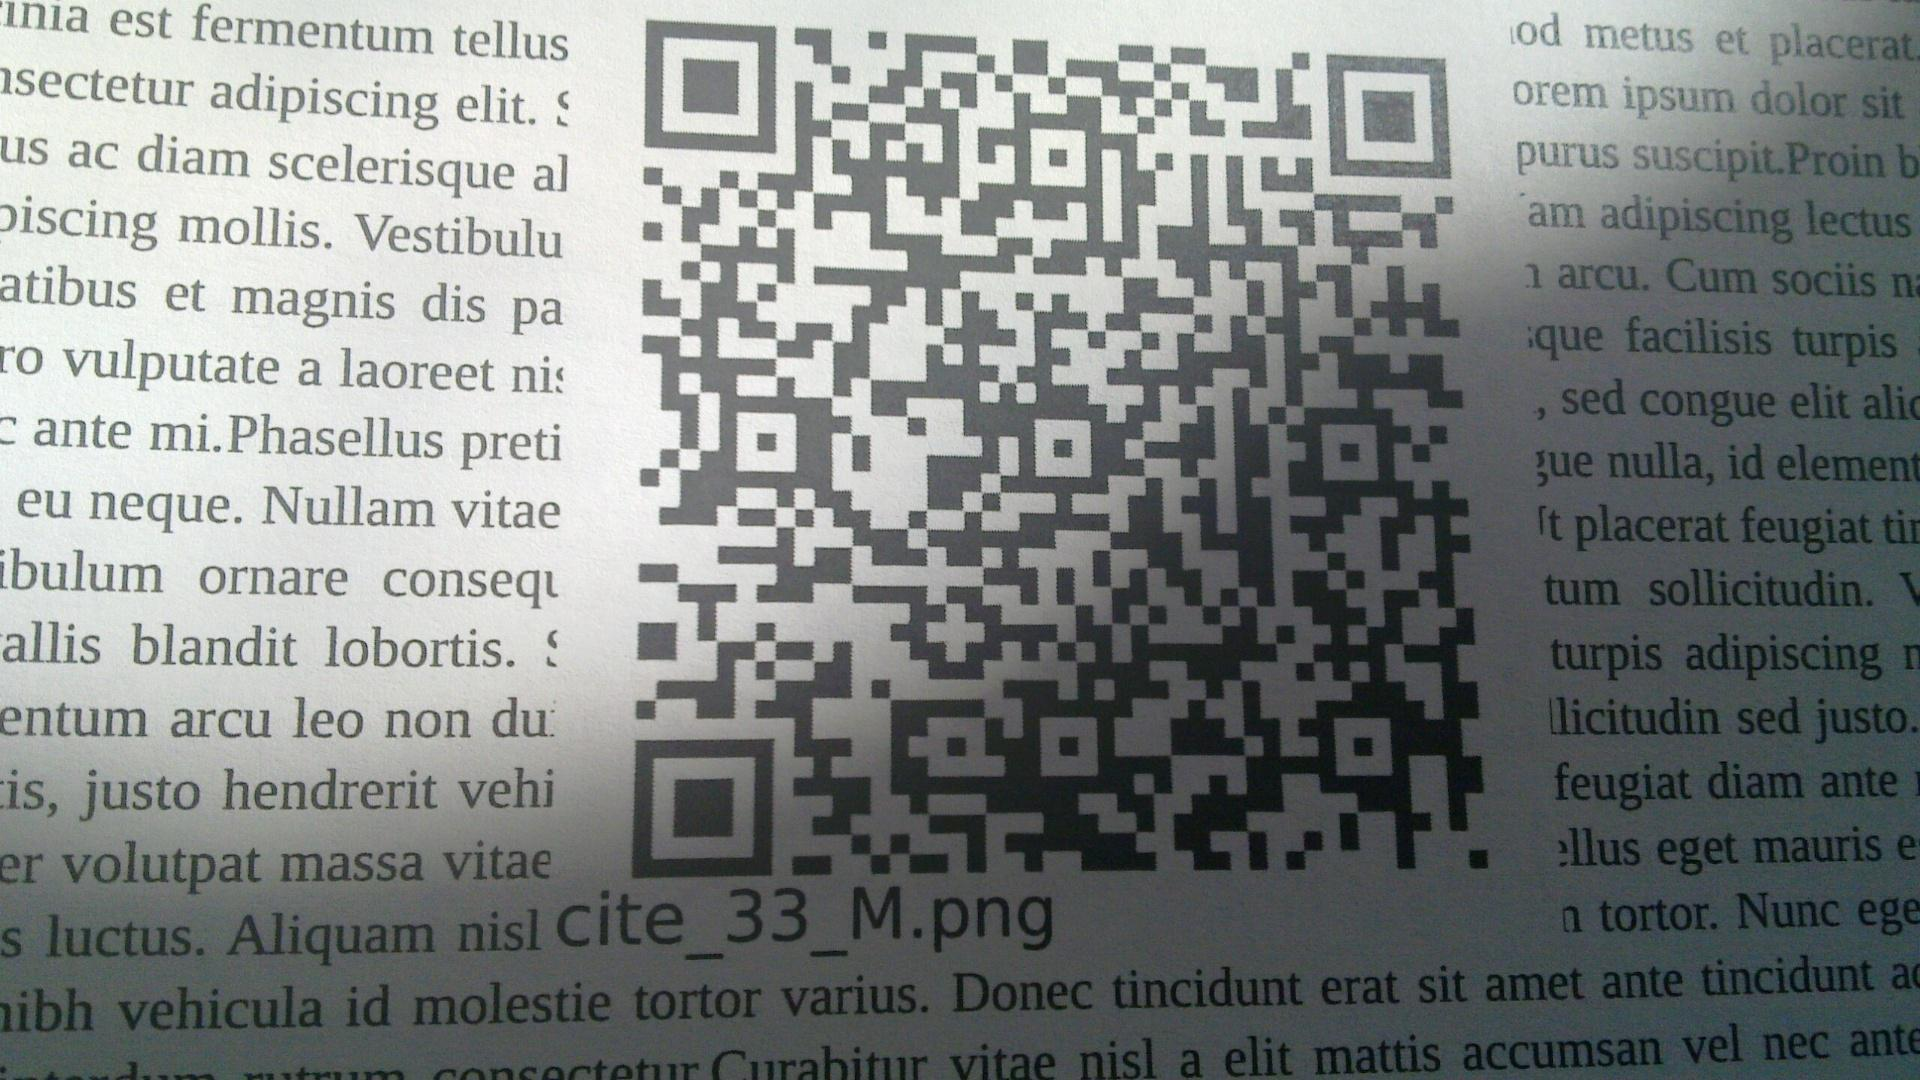Finder pattern: (636, 11, 787, 158), (628, 735, 781, 881), (1321, 47, 1460, 182)
